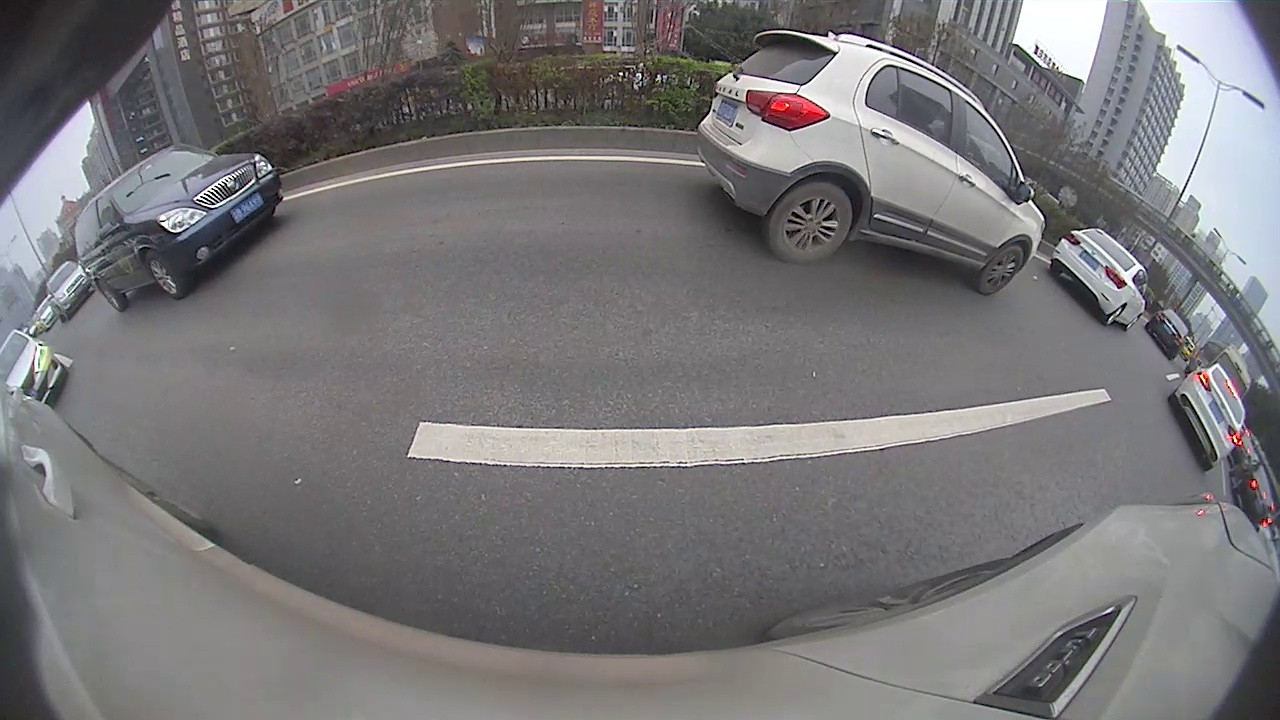car: (695, 27, 1048, 297), (73, 146, 285, 314), (1049, 229, 1149, 332), (1167, 362, 1247, 472)
front: (978, 243, 1031, 293), (146, 250, 182, 300)
rear: (767, 180, 851, 262)
